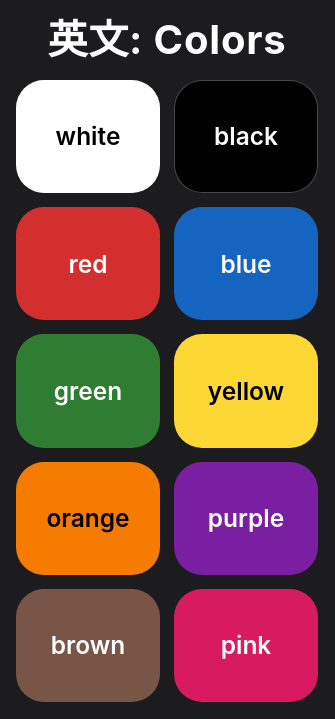
cycles back to English after Taigi
This screenshot has width=335, height=719.
Step 1. Click the button with aria-label "switch language" → {"x": 167, "y": 40}, box [36,12,298,68]
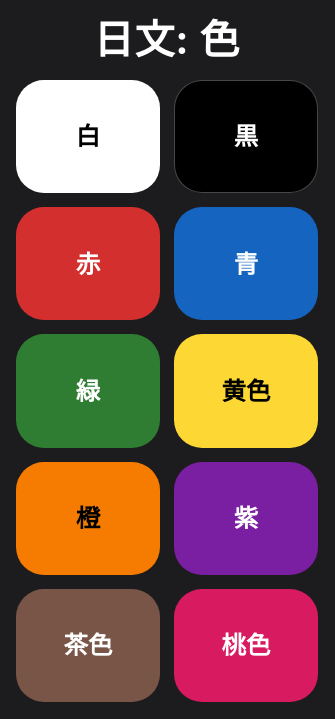
Step 2. Click the button with aria-label "switch language" → {"x": 167, "y": 40}, box [82,12,252,68]
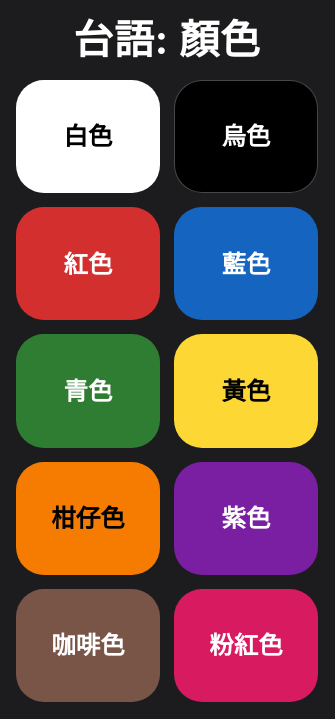
Step 3. Click the button with aria-label "switch language" → {"x": 167, "y": 40}, box [61,12,273,68]
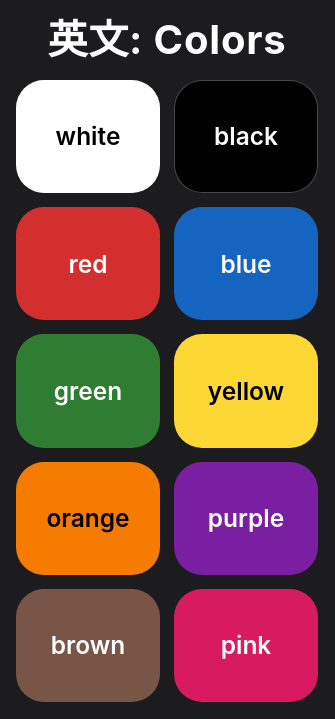
Expected: the button "white" is shown, [16,80,160,193]
Expected: the heading "英文: Colors" is shown, [48,18,286,62]
